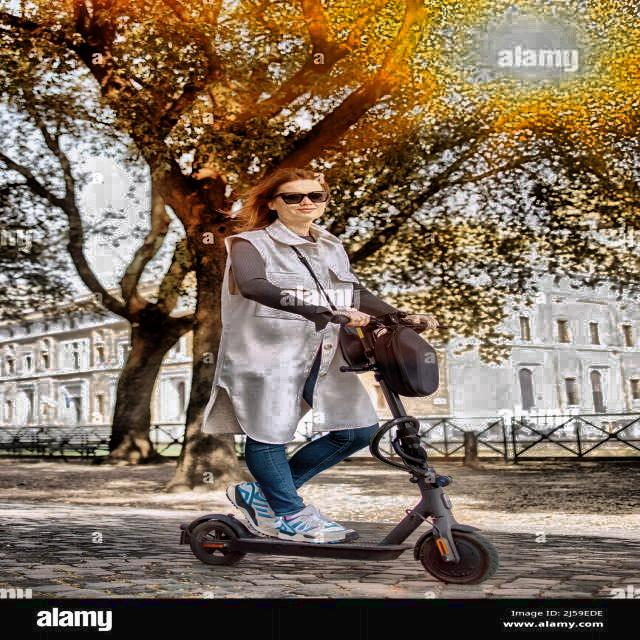bare_head: (250, 169, 343, 235)
human: (196, 154, 412, 534)
kickboard: (160, 484, 532, 594)
